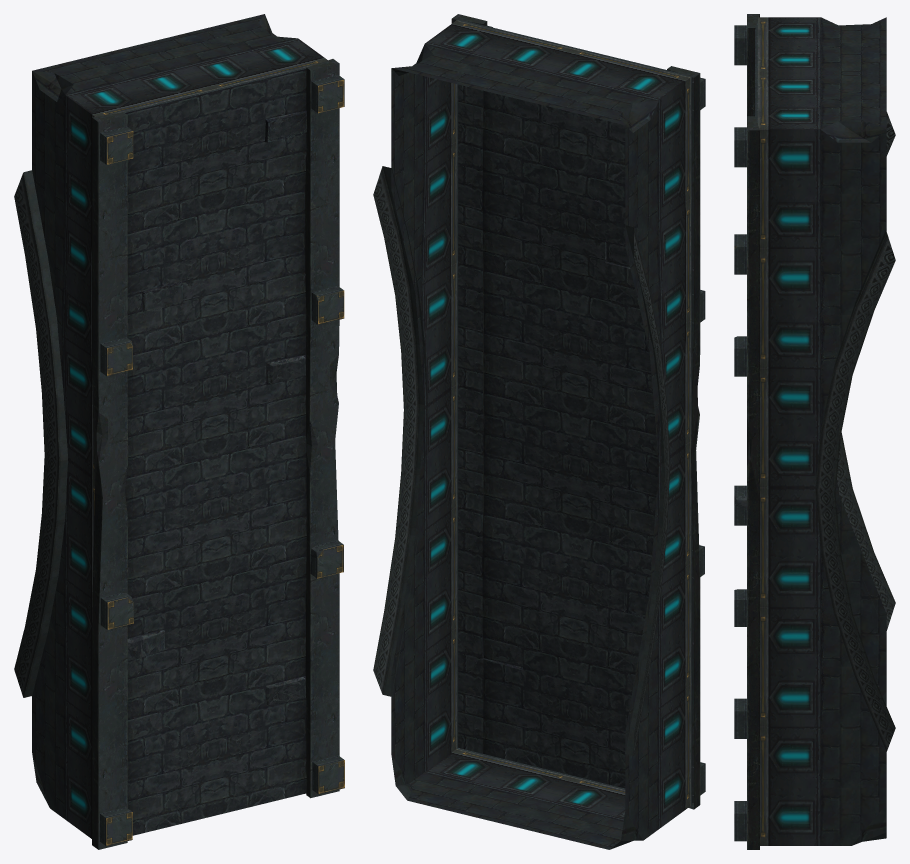
Rendered from tanxian_fuben_257_daqiao03.obj.
3 renders of one model, left to right at view 1: azimuth 30°, elevation 25°; view 2: azimuth 150°, elevation 25°; view 3: azimuth 270°, elevation 25°, orthographic.
Parts seen in each view (by area): view 1: tanxian_fuben_257_daqiao03; view 2: tanxian_fuben_257_daqiao03; view 3: tanxian_fuben_257_daqiao03.
Boxes of the visible parts, bbox=[...] form: tanxian_fuben_257_daqiao03: bbox=[14, 14, 344, 849]; tanxian_fuben_257_daqiao03: bbox=[373, 14, 705, 849]; tanxian_fuben_257_daqiao03: bbox=[734, 14, 895, 849].
Bounding box in the file's own units: 288 × 771 × 157.
5 materials, 5 textured.
